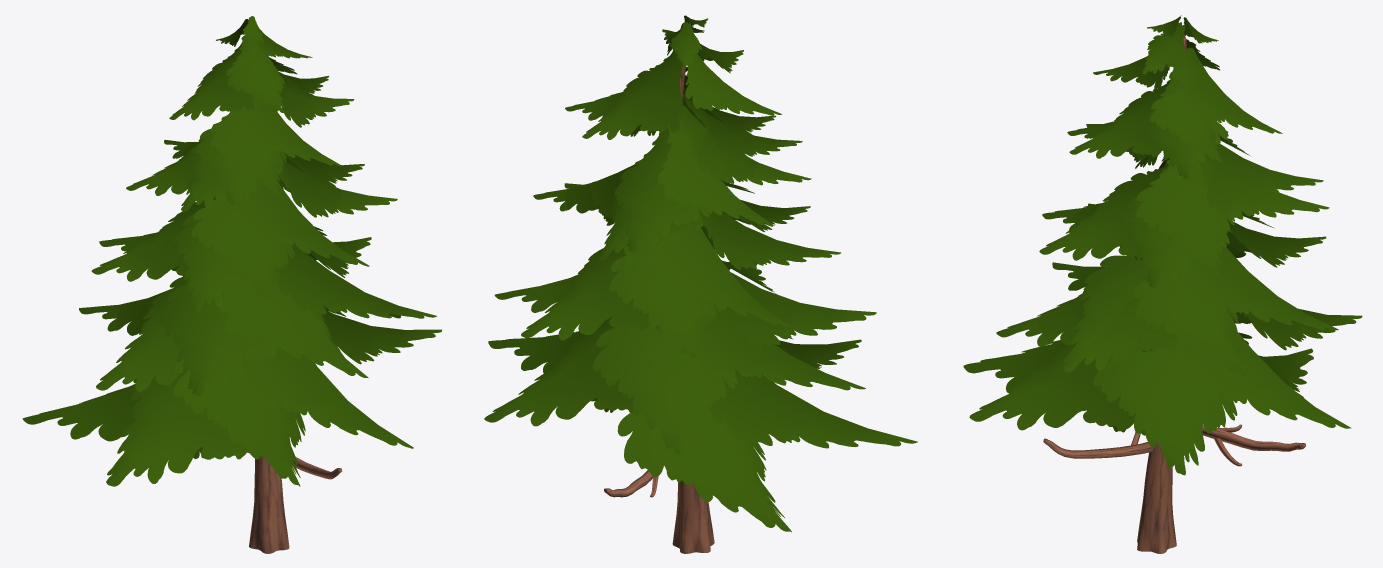
File: Pine_2.glb
3 renders of one model, left to right at view 1: azimuth 30°, elevation 25°; view 2: azimuth 150°, elevation 25°; view 3: azimuth 270°, elevation 25°, orthographic. The views are drawn at different scales.
Visible parts, largest first — view 1: Pine_2; view 2: Pine_2; view 3: Pine_2.
Part boxes in pixels (x1,y1,x2,y2): Pine_2: (22,16,441,553); Pine_2: (484,15,917,553); Pine_2: (963,15,1362,553).
Bounding box in the file's own units: 5.73 × 7.38 × 5.22.
Materials: 2 (2 with a texture image).
